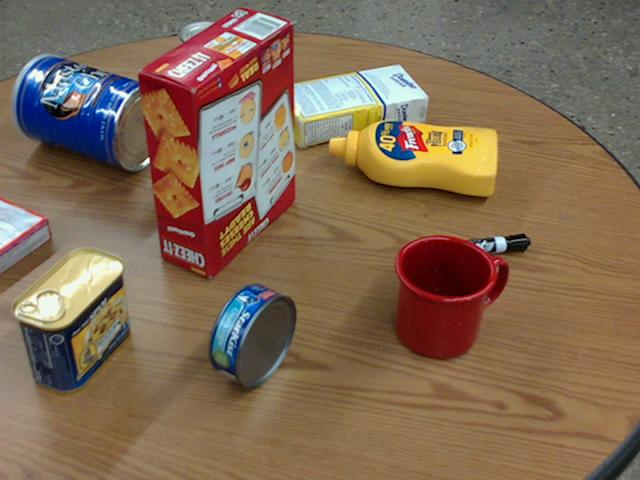cracker_box: (137, 9, 293, 278)
gelatin_box: (0, 197, 52, 274)
large_marker: (417, 233, 530, 260)
master_chef_can: (10, 54, 165, 170)
mug: (395, 234, 505, 358)
mustard_bottle: (328, 121, 497, 194)
potted_meat_can: (13, 247, 128, 394)
sugar_box: (273, 62, 429, 147)
tomato_soup_can: (177, 20, 233, 118)
tuna_fish_can: (208, 284, 297, 387)
